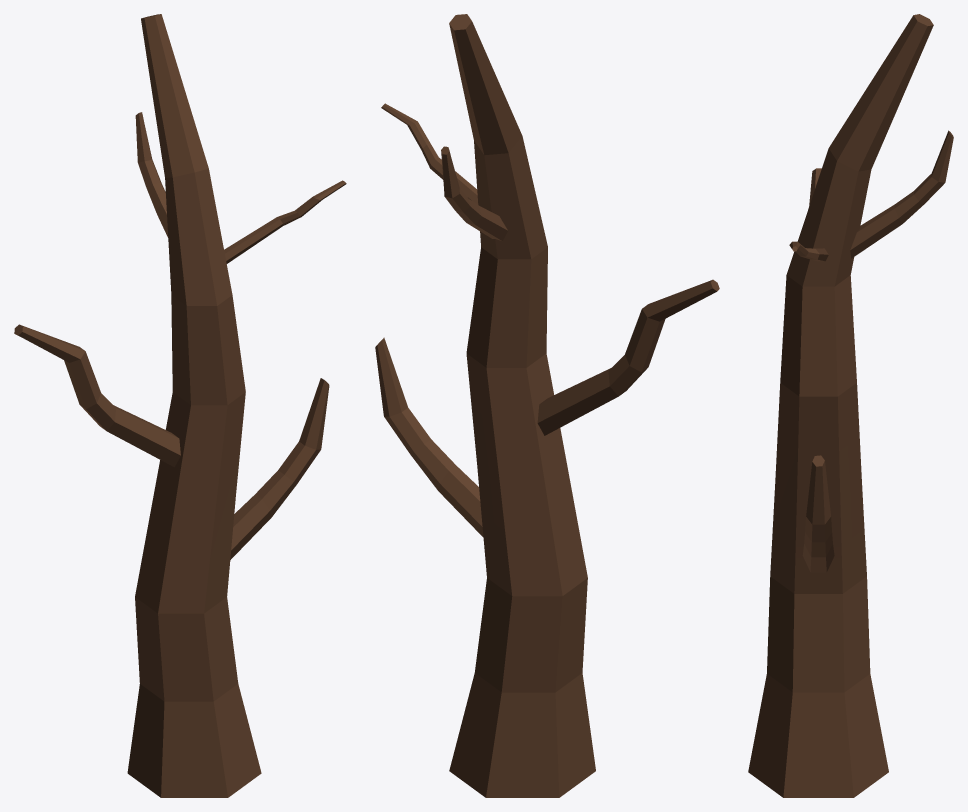
Rendered from SPW_Natures_Tree_Dead_01.glb.
The picture shows the model from 3 angles, left to right: view 1: azimuth 30°, elevation 25°; view 2: azimuth 150°, elevation 25°; view 3: azimuth 270°, elevation 25°; orthographic projection. The views are drawn at different scales.
Parts seen in each view (by area): view 1: SPW_Natures_Tree_Dead_01; view 2: SPW_Natures_Tree_Dead_01; view 3: SPW_Natures_Tree_Dead_01.
Part boxes in pixels (bbox=[...]): SPW_Natures_Tree_Dead_01: bbox=[14, 14, 346, 797]; SPW_Natures_Tree_Dead_01: bbox=[375, 14, 719, 797]; SPW_Natures_Tree_Dead_01: bbox=[748, 14, 953, 797].
Size of the model in its own units: 1.83 by 3.97 by 0.9734.
Materials: 1 (1 with a texture image).
